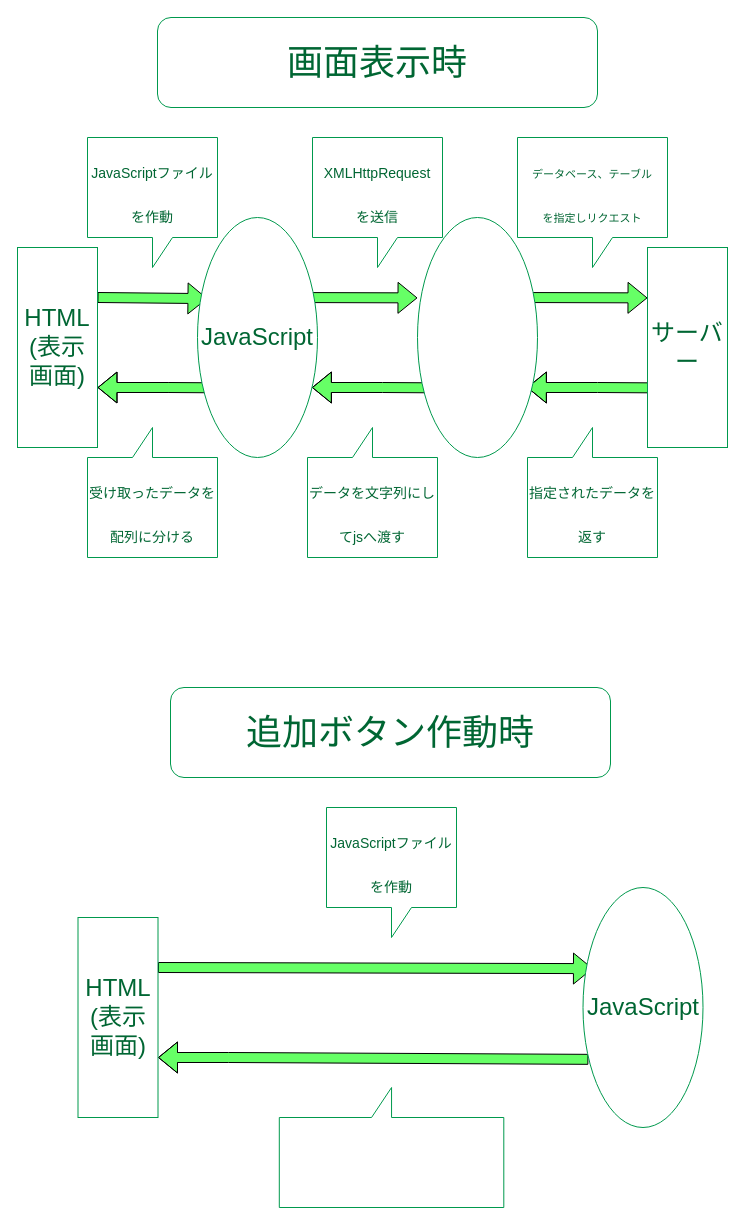
Some shapes in this 745 by 1225 pixel diagram are drawn without their labels. The centre of each missing label's shape, as x and y in pixels:
"PHP" goes at (477,337).
"画面表示の時点で取得していた配列から1データ出力" goes at (391,1147).
